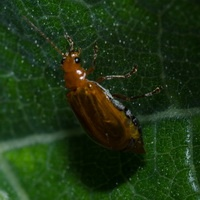insect: (24, 17, 144, 152)
